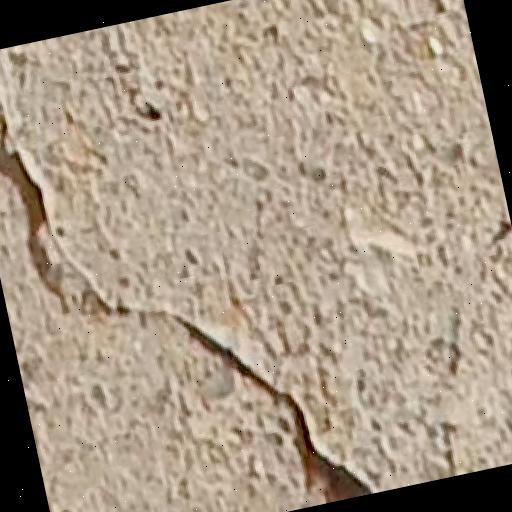spalling: (0, 73, 385, 505)
